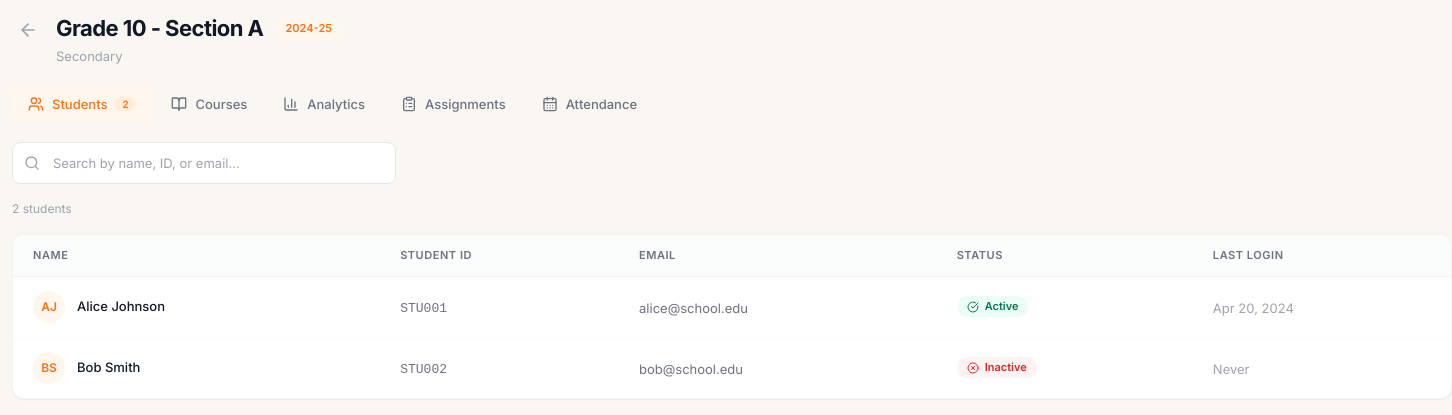
Scenario: SectionDashboardPage › switches to courses tab when courses tab is clicked
expect the text "Alice Johnson" is shown: met, box x1=77 y1=297 x2=165 y2=316
Click the tab "Courses" at point(209, 104), box x1=156 y1=86 x2=263 y2=122
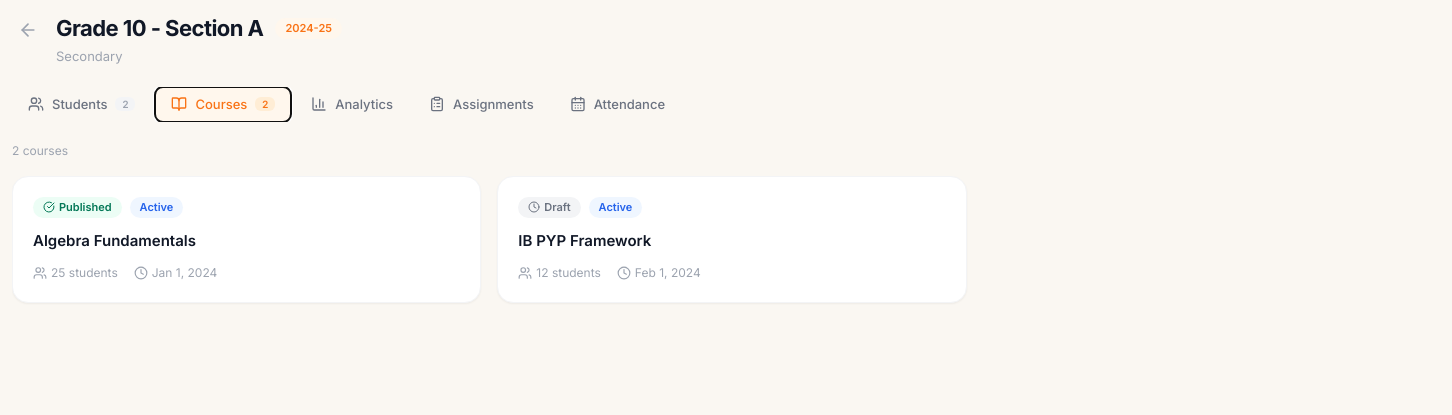
expect the heading "Algebra Fundamentals" is shown: met, box x1=33 y1=230 x2=196 y2=250
